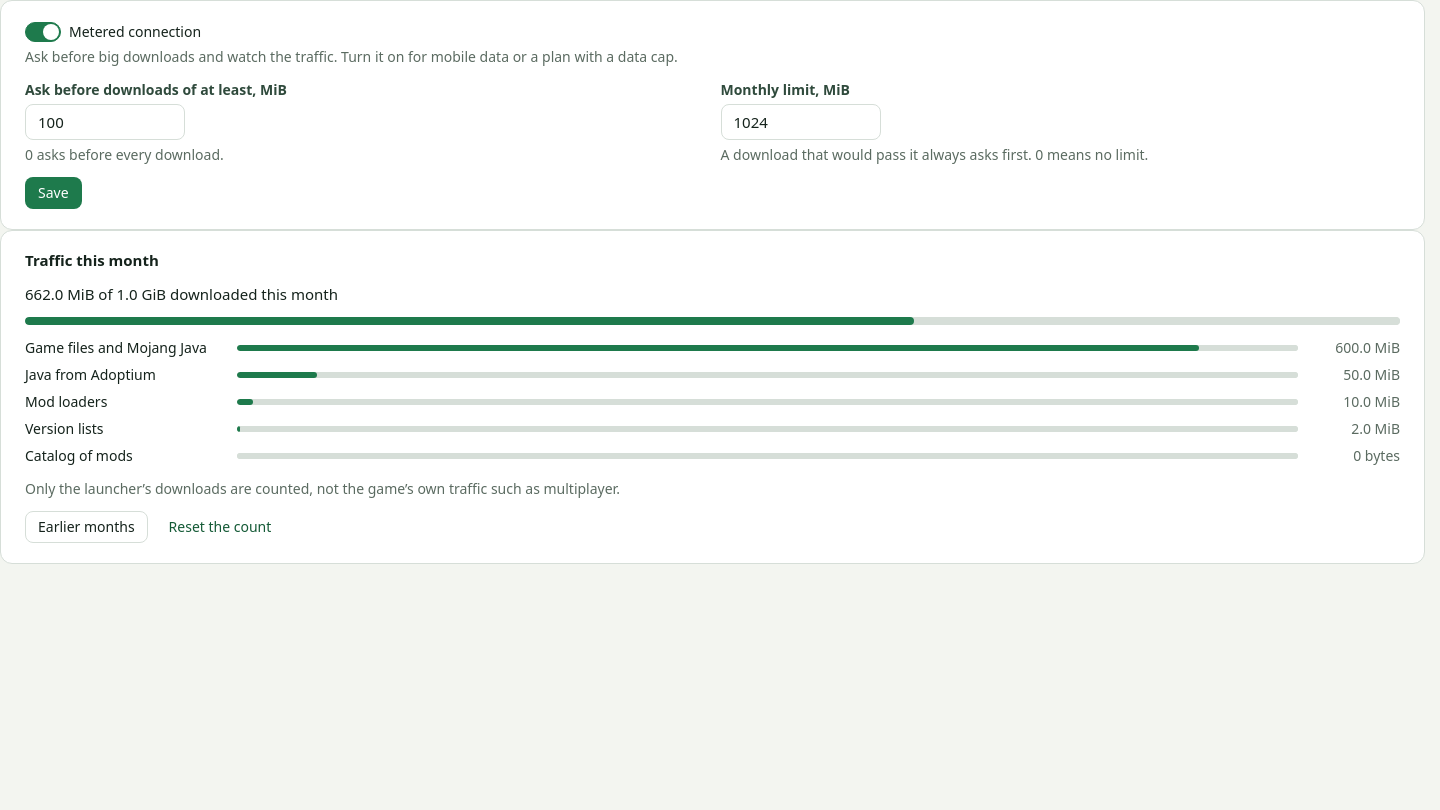
Test: NetworkSettings › shows this month against the limit, by source, and earlier months
Expected: the text "662.0 MiB of 1.0 GiB downloaded this month" is shown, [25, 284, 338, 304]
Expected: the list item "Game files and Mojang Java" shows "600.0 MiB", [1335, 338, 1400, 357]
What coordinates should you click on to do the following:
click the button "Earlier months"
I would click on:
 (86, 527)
Its box is [25, 511, 148, 543].
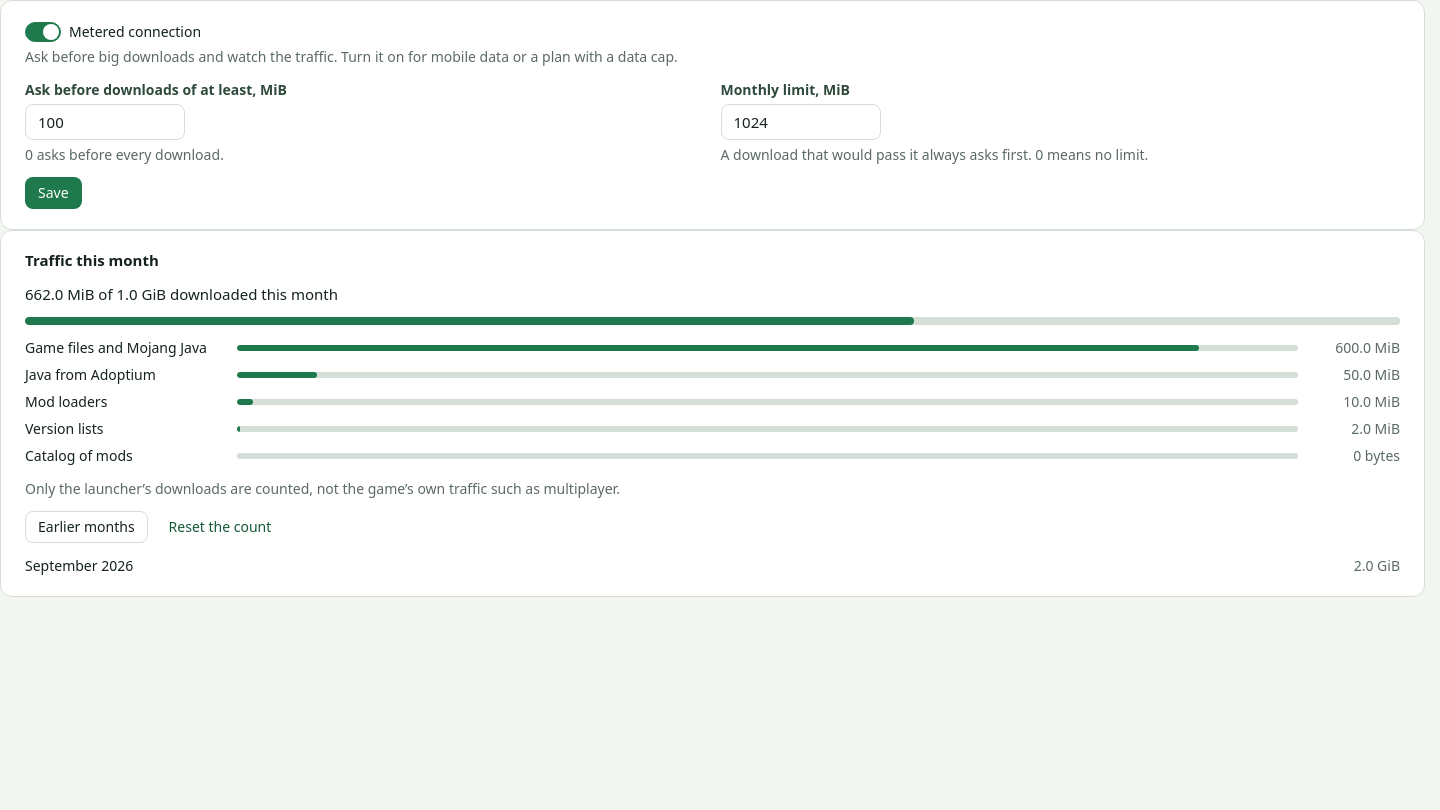
Result: the list item "September 2026" shows "2.0 GiB" at [1354, 556, 1400, 575]
Result: the list item "September 2026" is shown at [25, 556, 133, 575]
